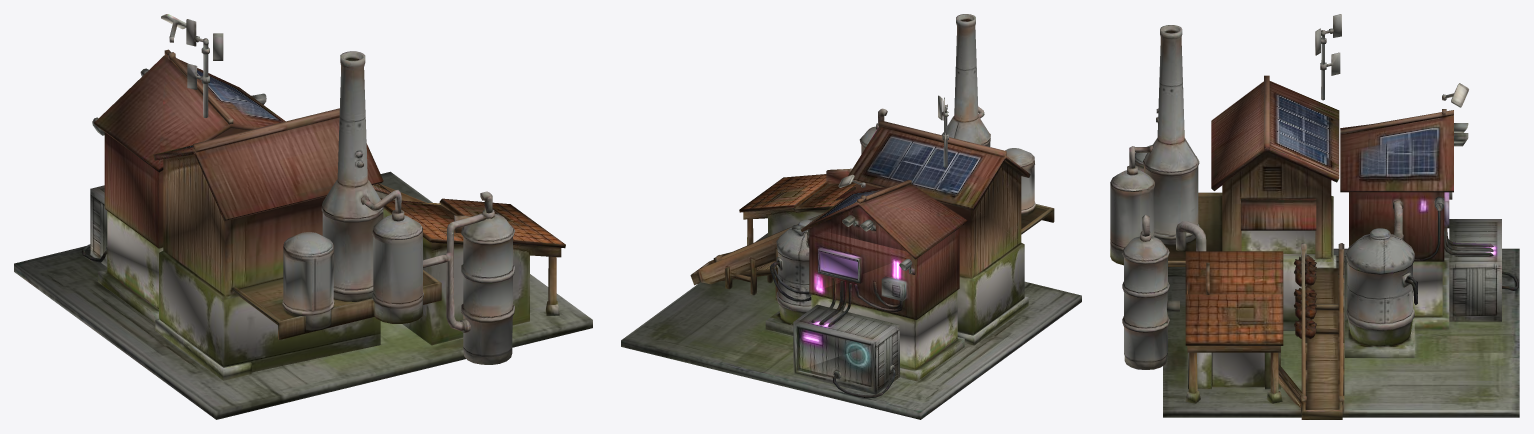
File: palm_oil_mill.glb
3 renders of one model, left to right at view 1: azimuth 30°, elevation 25°; view 2: azimuth 150°, elevation 25°; view 3: azimuth 270°, elevation 25°, orthographic. The views are drawn at different scales.
Parts seen in each view (by area): view 1: Body; view 2: Body, Glow; view 3: Body.
Boxes of the visible parts, left/top/right/bottom form: Body: left=14, top=14, right=592, bottom=419; Body: left=621, top=14, right=1081, bottom=419; Glow: left=798, top=228, right=910, bottom=369; Body: left=1110, top=14, right=1519, bottom=419.
Size of the model in its own units: 18 by 14.36 by 18.58.
Materials: 2 (2 with a texture image).
